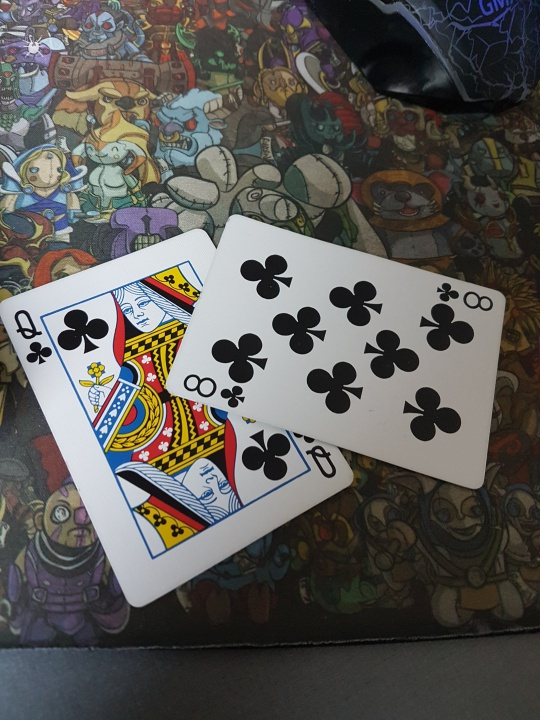8: (166, 214, 505, 491)
queen: (1, 226, 356, 610)
